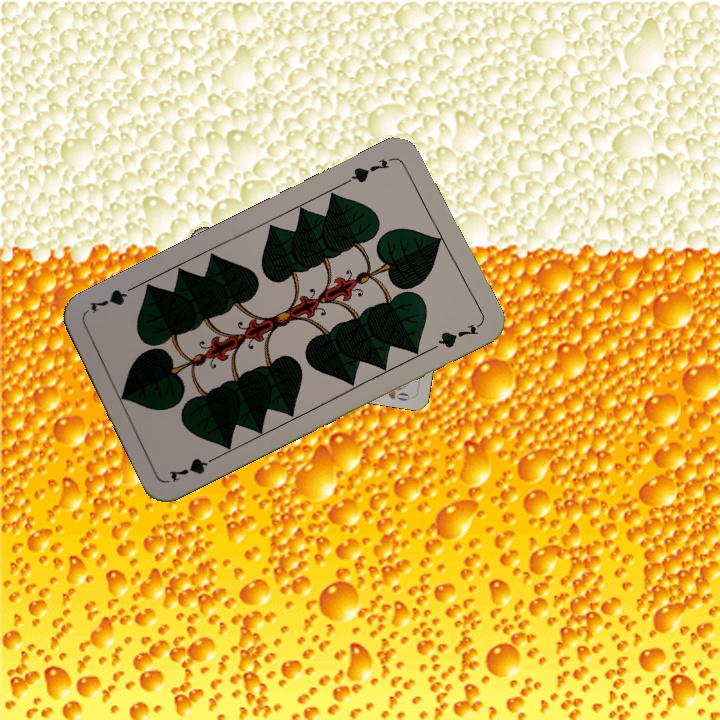G7: (165, 451, 222, 485), (342, 153, 398, 186)
